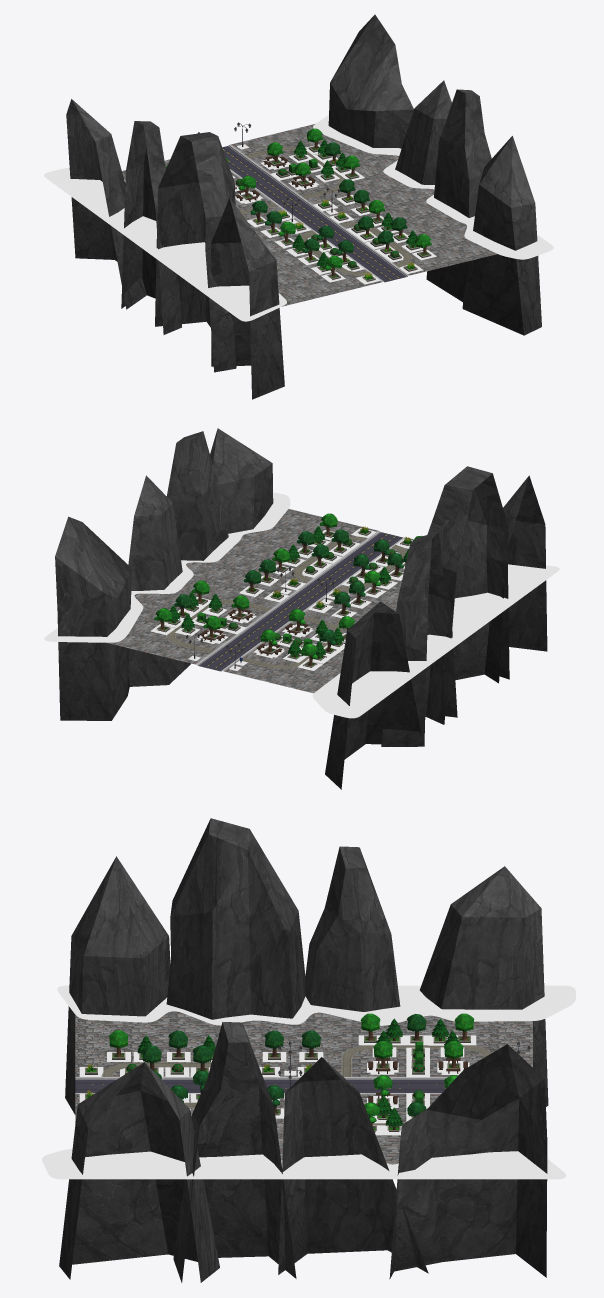
The model's file is City_05.fbx.
3 views of the same model, one above another, from view 1: azimuth 30°, elevation 25°; view 2: azimuth 150°, elevation 25°; view 3: azimuth 270°, elevation 25° (orthographic). The views are drawn at different scales.
Parts seen in each view (by area): view 1: City_05; view 2: City_05; view 3: City_05.
Part boxes in pixels (box(x1,y1,x2,y2)): City_05: box(44, 14, 553, 399); City_05: box(44, 428, 559, 789); City_05: box(42, 818, 575, 1282).
Size of the model in its own units: 22617 by 13384 by 25170.
9 materials, 9 textured.
